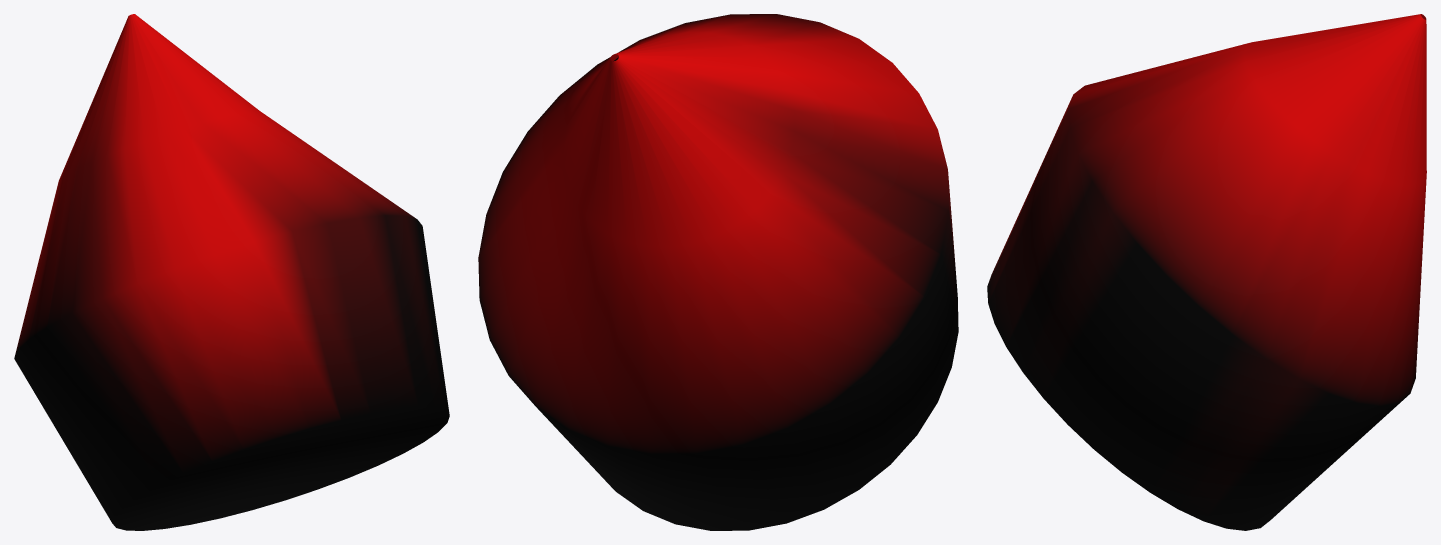
The model's file is Hair_P3.fbx.
The picture shows the model from 3 angles, left to right: view 1: azimuth 30°, elevation 25°; view 2: azimuth 150°, elevation 25°; view 3: azimuth 270°, elevation 25°; orthographic projection. The views are drawn at different scales.
Visible parts, largest first — view 1: Plane.041; view 2: Plane.041; view 3: Plane.041.
Boxes of the visible parts, <box> form: Plane.041: <box>14,14,449,530</box>; Plane.041: <box>478,14,958,530</box>; Plane.041: <box>987,14,1426,530</box>.
Bounding box in the file's own units: 189 × 223 × 184.
